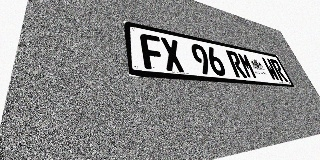6: (204, 46, 227, 76)
9: (189, 43, 214, 75)
F: (139, 33, 166, 71)
M: (236, 52, 258, 79)
R: (225, 50, 247, 78), (269, 59, 288, 82)
W: (261, 57, 281, 81)
X: (159, 37, 185, 72)
